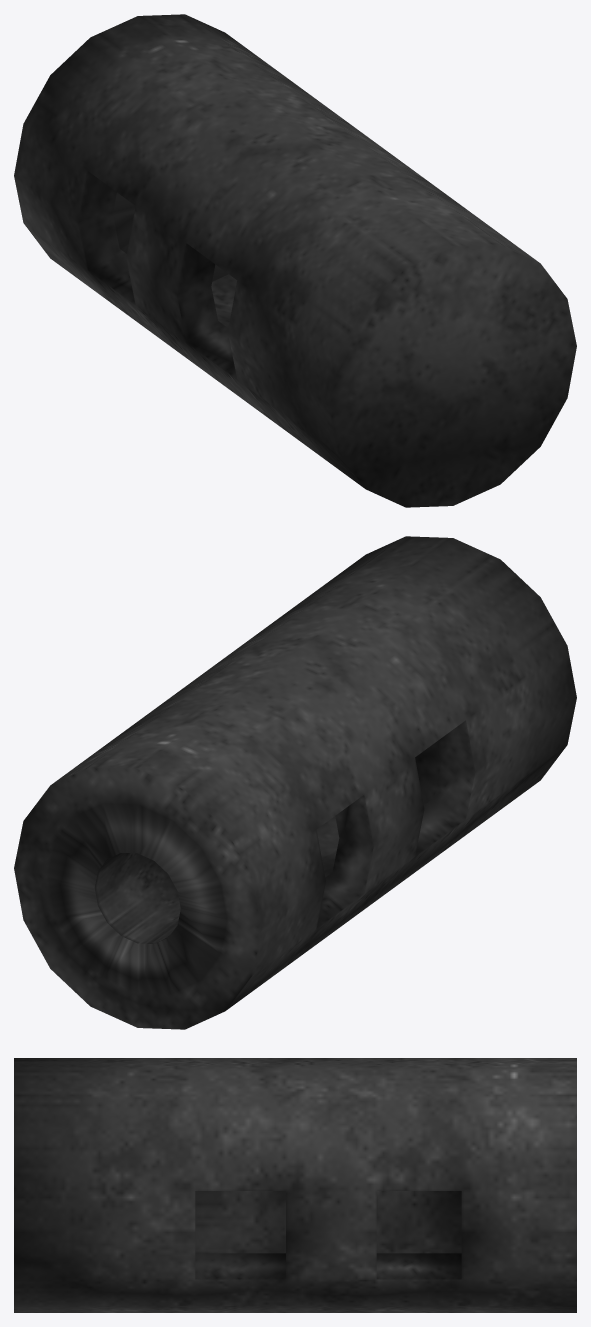
The model's file is TLOG_MuzzleBrakeVanila.fbx.
3 views of the same model, one above another, from view 1: azimuth 30°, elevation 25°; view 2: azimuth 150°, elevation 25°; view 3: azimuth 270°, elevation 25° (orthographic). The views are drawn at different scales.
Parts seen in each view (by area): view 1: MuzzleBrakeMilitary; view 2: MuzzleBrakeMilitary; view 3: MuzzleBrakeMilitary.
Boxes of the visible parts, left/top/right/bottom form: MuzzleBrakeMilitary: left=14, top=14, right=576, bottom=507; MuzzleBrakeMilitary: left=14, top=536, right=576, bottom=1029; MuzzleBrakeMilitary: left=14, top=1058, right=576, bottom=1312.
Bounding box in the file's own units: 0.0164 × 0.0164 × 0.0363.
